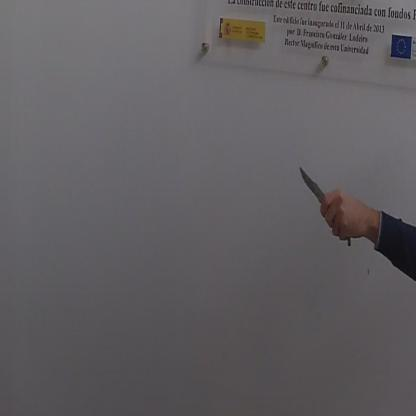knife: (296, 160, 354, 251)
